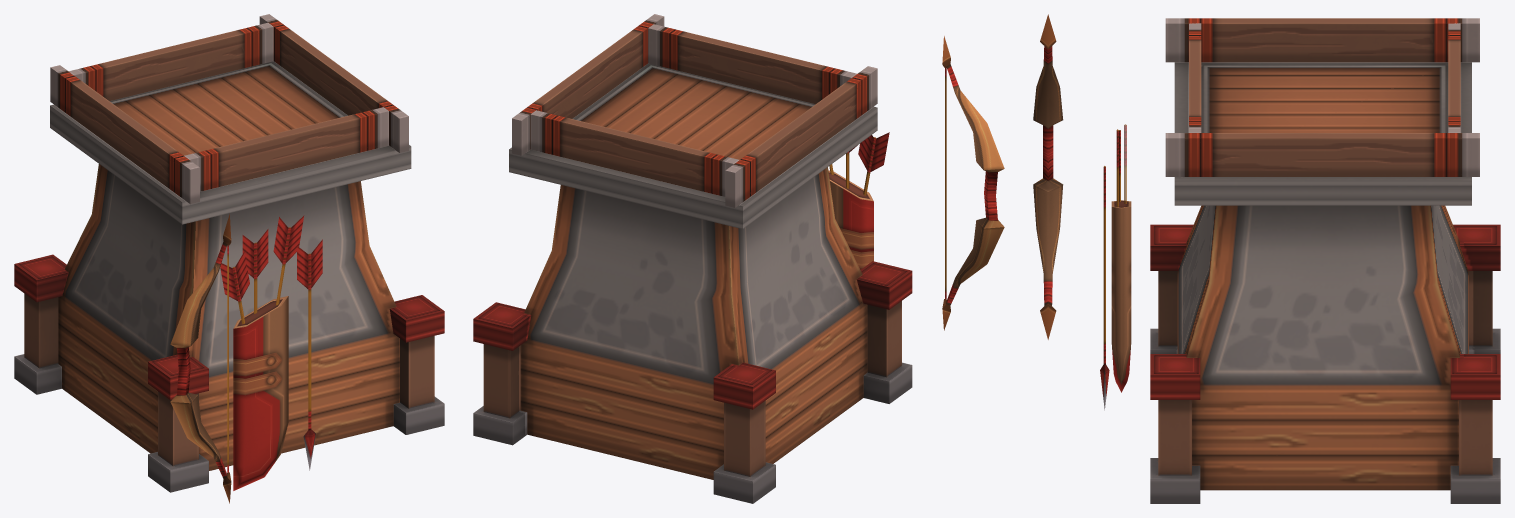
File: ArcherTower_Level1_F.FBX
3 renders of one model, left to right at view 1: azimuth 30°, elevation 25°; view 2: azimuth 150°, elevation 25°; view 3: azimuth 270°, elevation 25°, orthographic. The views are drawn at different scales.
Parts seen in each view (by area): view 1: ArcherTower_Level004, ArcherTower_Quiver003, ArcherTower_Bow003, ArcherTower_Level1_F; view 2: ArcherTower_Level004, ArcherTower_Bow003, ArcherTower_Quiver003; view 3: ArcherTower_Level004, ArcherTower_Bow003, ArcherTower_Quiver003, ArcherTower_Level1_F.
Boxes of the visible parts, x1,y1,x2,y2 form: ArcherTower_Level004: [14, 14, 444, 492]; ArcherTower_Quiver003: [220, 215, 304, 490]; ArcherTower_Bow003: [170, 213, 231, 503]; ArcherTower_Level1_F: [297, 239, 322, 470]; ArcherTower_Level004: [473, 14, 912, 503]; ArcherTower_Bow003: [942, 36, 1004, 330]; ArcherTower_Quiver003: [828, 132, 889, 269]; ArcherTower_Level004: [1150, 18, 1500, 503]; ArcherTower_Bow003: [1033, 14, 1063, 339]; ArcherTower_Quiver003: [1111, 124, 1131, 392]; ArcherTower_Level1_F: [1100, 166, 1109, 410].
Bounding box in the file's own units: 50.5 × 47.22 × 56.92.
